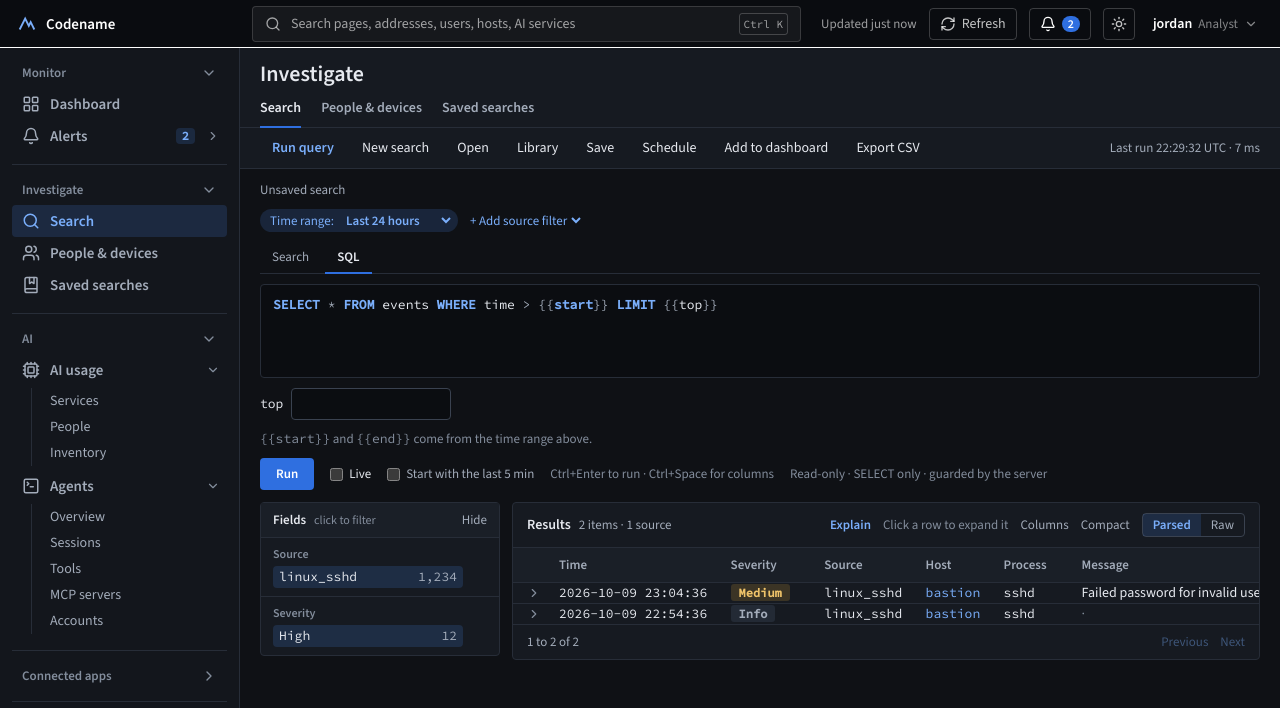
Scenario: Saving a search › turns {{placeholders}} into typed parameters
Expected: the heading "Investigate" is shown, [260,59,364,88]
Click the button "Save". click: click(600, 148)
box: [574,132,626,164]
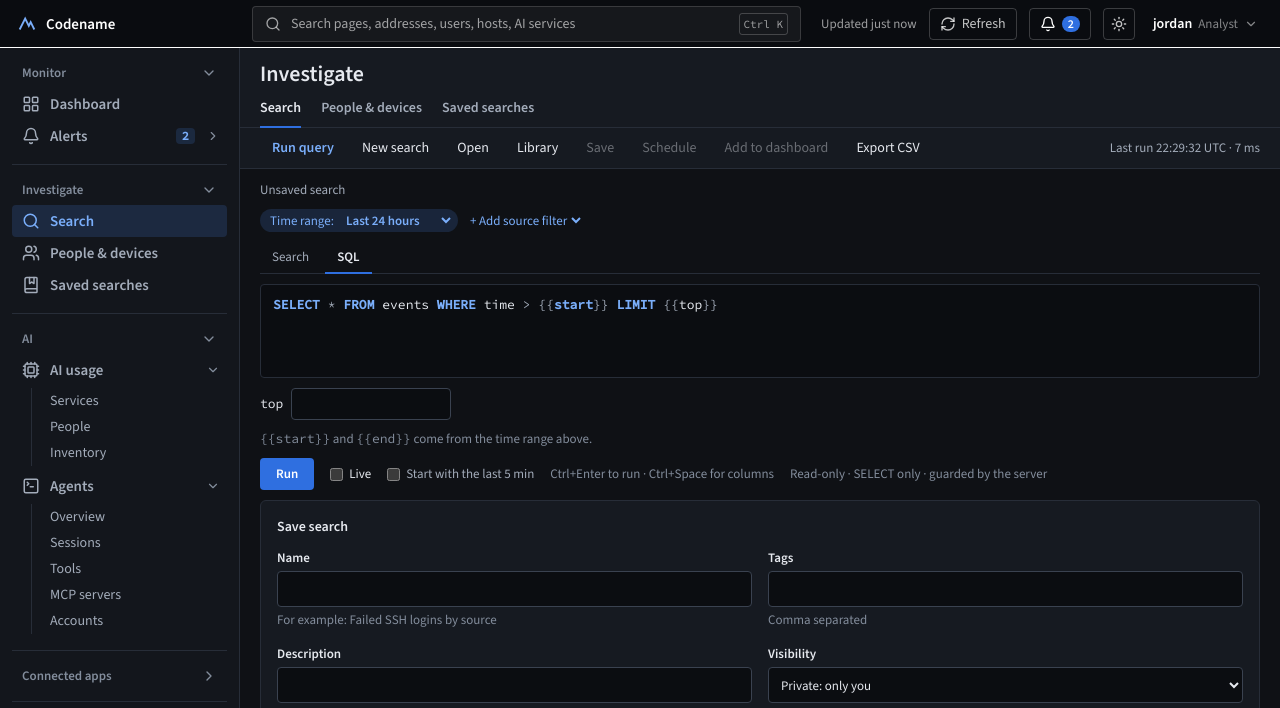
Type "Recent Events!" into the field labelled "Name". click: (514, 589)
box: [277,571,752,607]
(page scrolled)
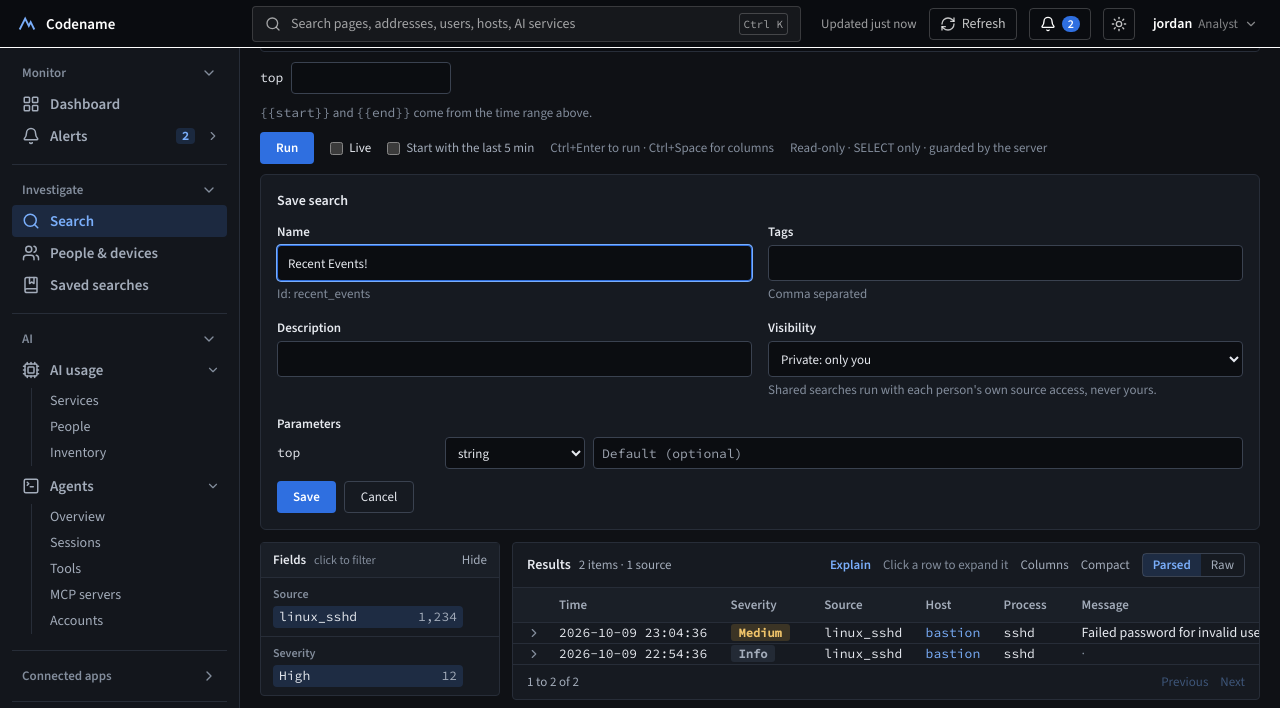
Expected: the text "Id: recent_events" is shown, [277,285,370,302]
Select "int" in the dropdown named "Type of top". click: (515, 453)
box: [445,437,585,469]
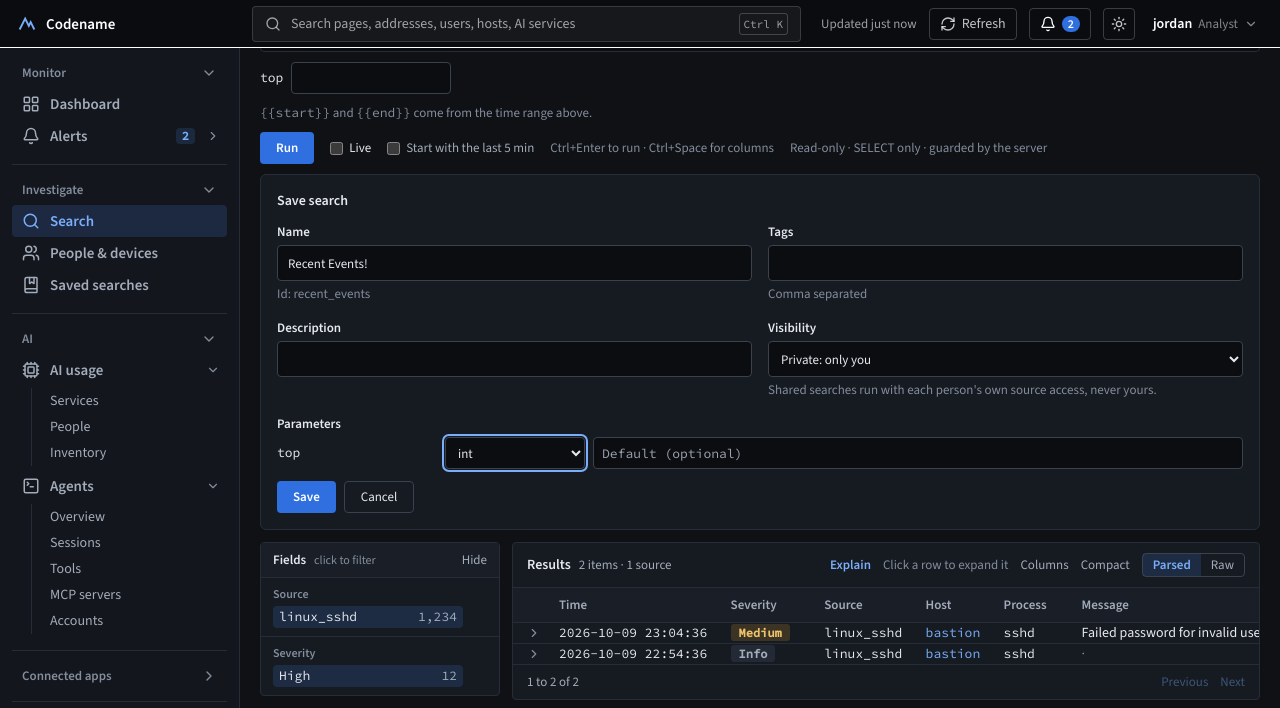
Type "5" into the field named "Default for top". click: (918, 453)
box: [593,437,1243,469]
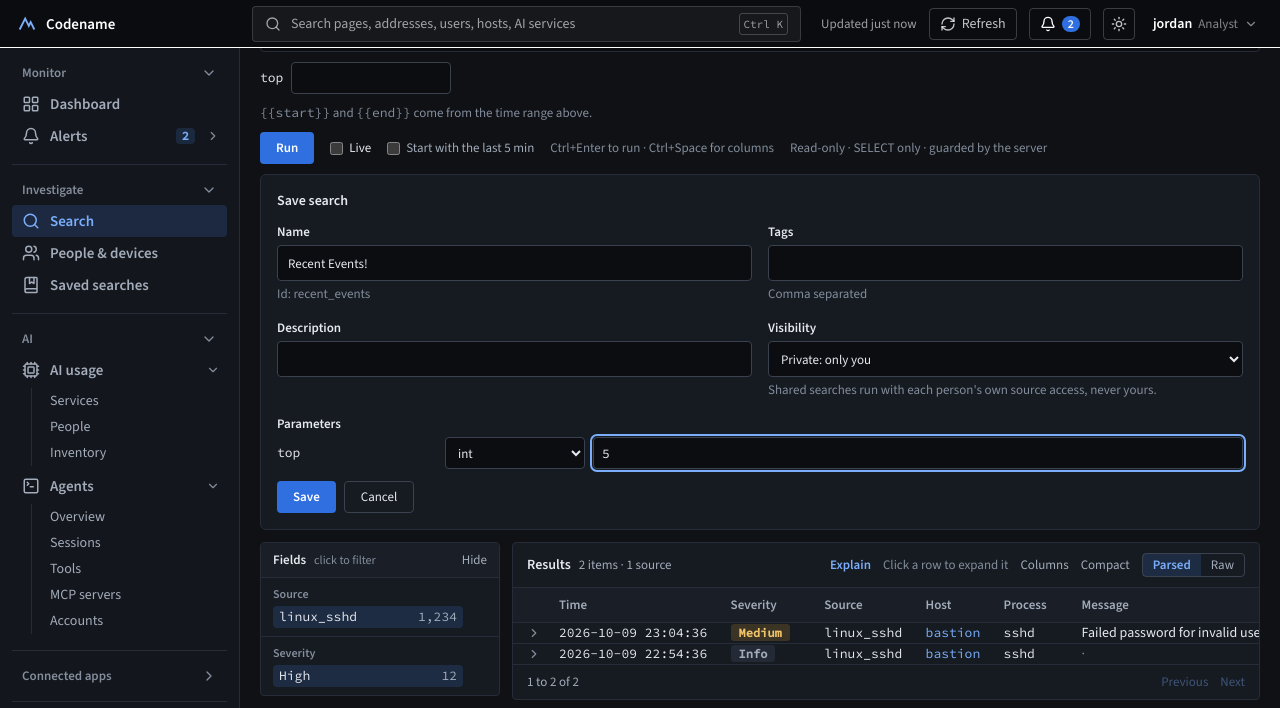
Click the button "Save". click: click(306, 497)
box: [277,481,336,513]
(page scrolled)
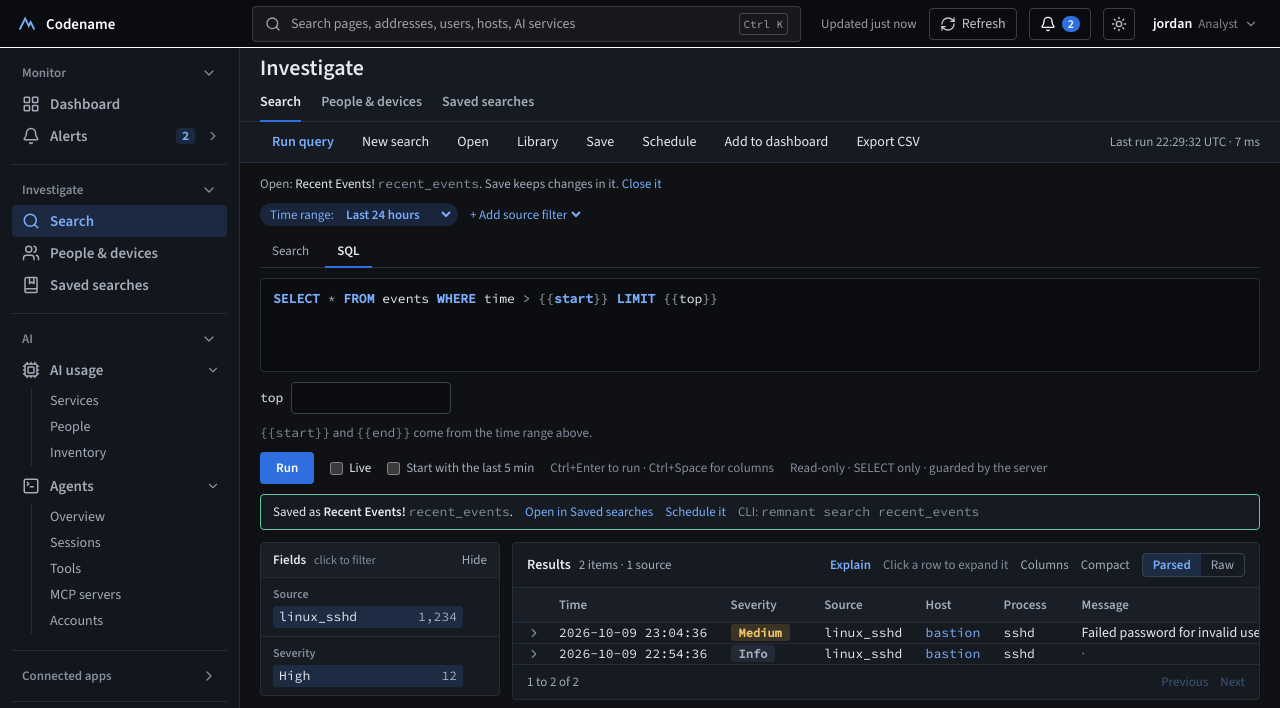
Expected: the text "Saved as Recent Events! recent_events." is shown, [273,503,513,521]
Expected: the link "Open in Saved searches" is shown, [525,503,653,521]
Expected: the button "Schedule it" is shown, [665,503,726,521]
